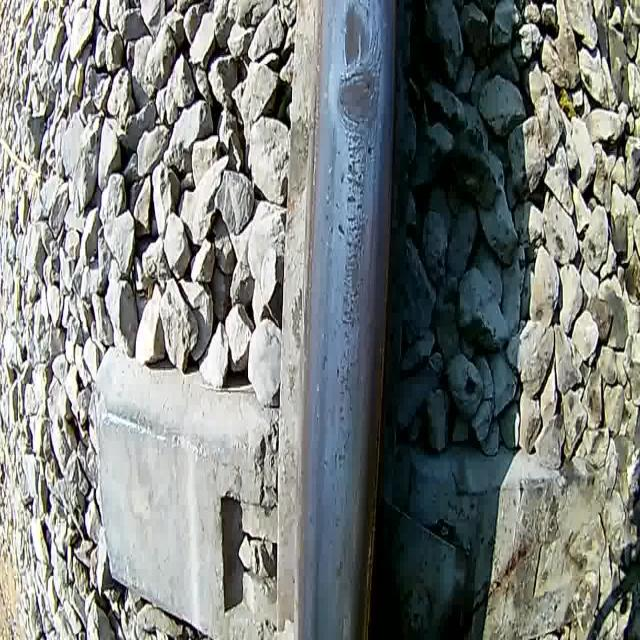Squats: (334, 63, 386, 138), (340, 0, 373, 69)
